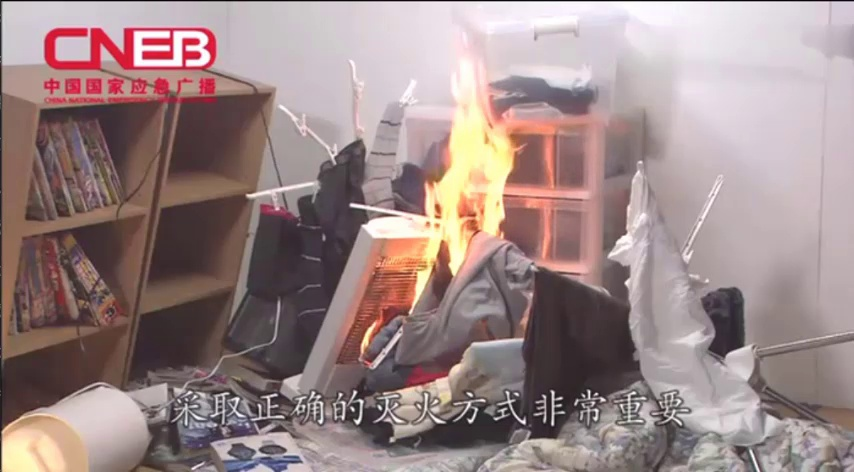fire: (404, 31, 531, 321)
